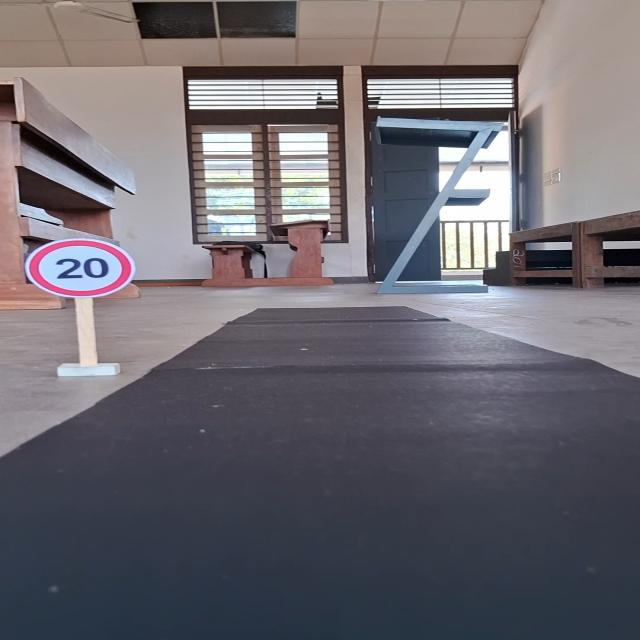Speed20: (22, 237, 138, 300)
